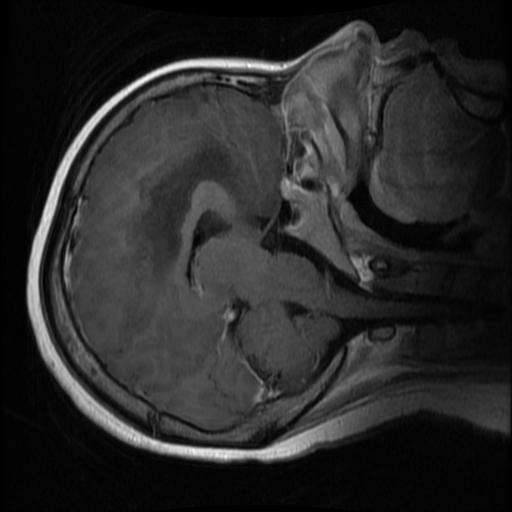glioma: (136, 141, 242, 278)
